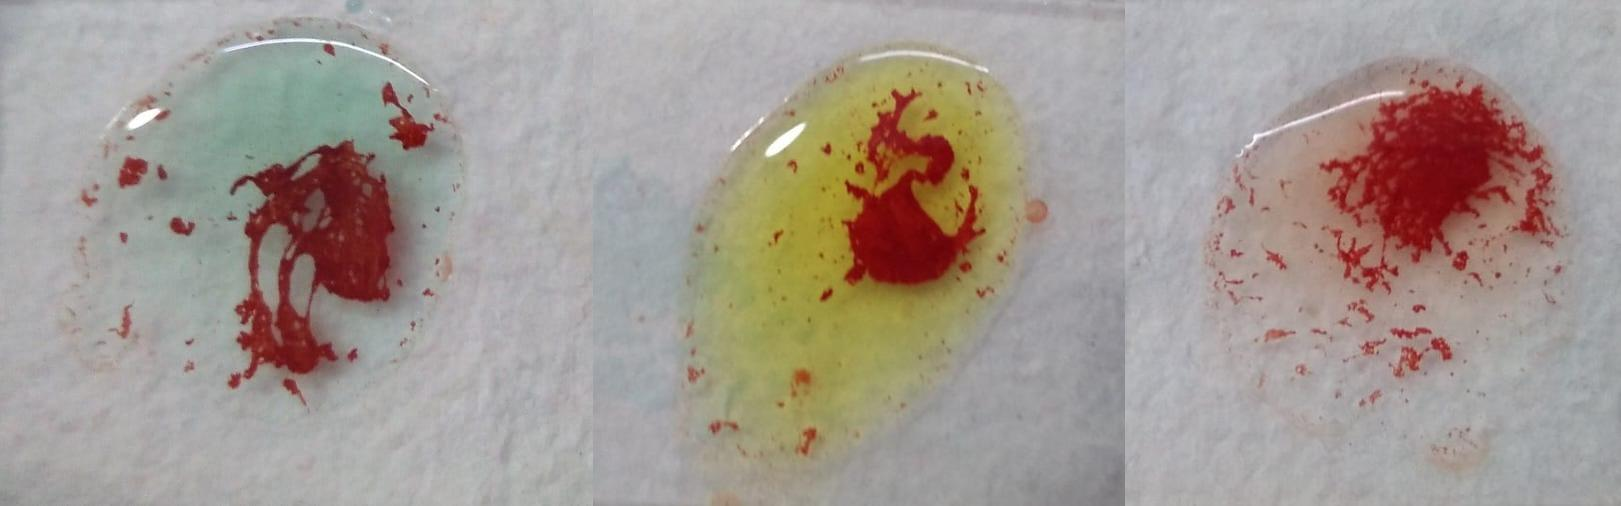A: (49, 25, 487, 414)
B: (700, 49, 1031, 468)
D: (1214, 52, 1567, 439)
